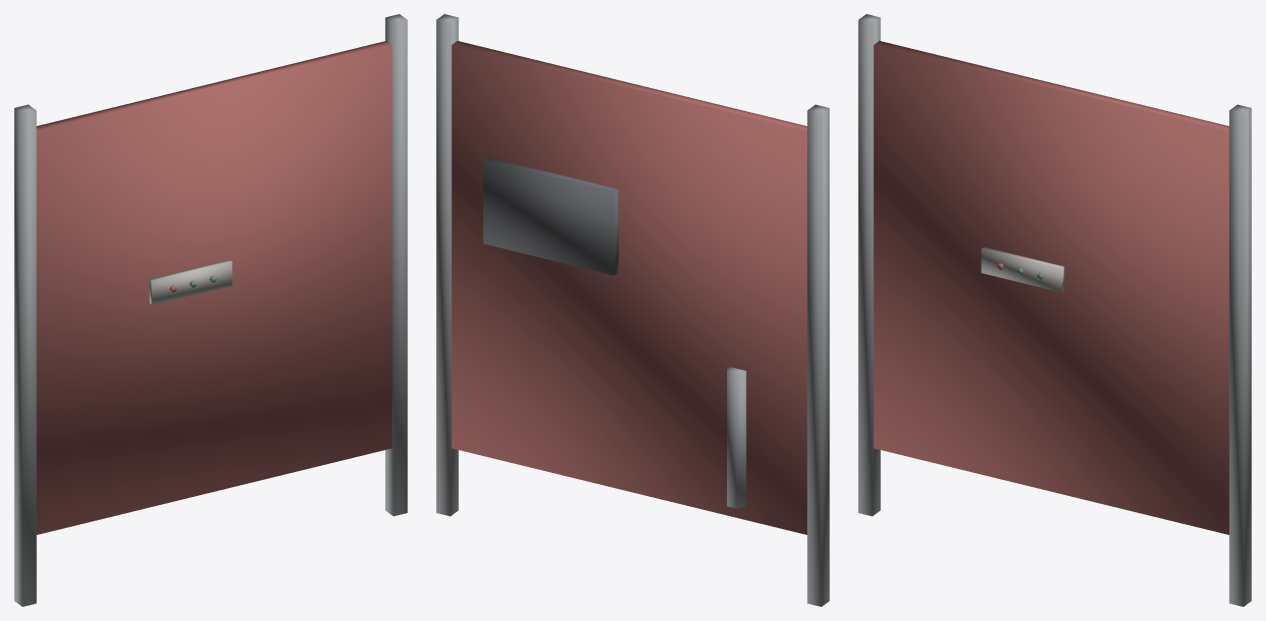
Rendered from welding_screen__service.glb.
3 renders of one model, left to right at view 1: azimuth 30°, elevation 25°; view 2: azimuth 150°, elevation 25°; view 3: azimuth 330°, elevation 25°, orthographic.
Parts seen in each view (by area): view 1: world; view 2: world; view 3: world.
Part boxes in pixels (x1,y1,x2,y2): world: (14, 14, 407, 606); world: (436, 14, 829, 606); world: (858, 14, 1251, 606).
Size of the model in its own units: 1.35 by 1.65 by 0.1102.
